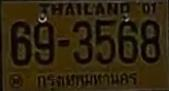3: (72, 20, 92, 63)
5: (95, 18, 115, 64)
6: (10, 21, 32, 66), (117, 20, 137, 62)
8: (140, 19, 160, 62)
9: (34, 21, 53, 64)
BKK: (32, 70, 143, 91)
